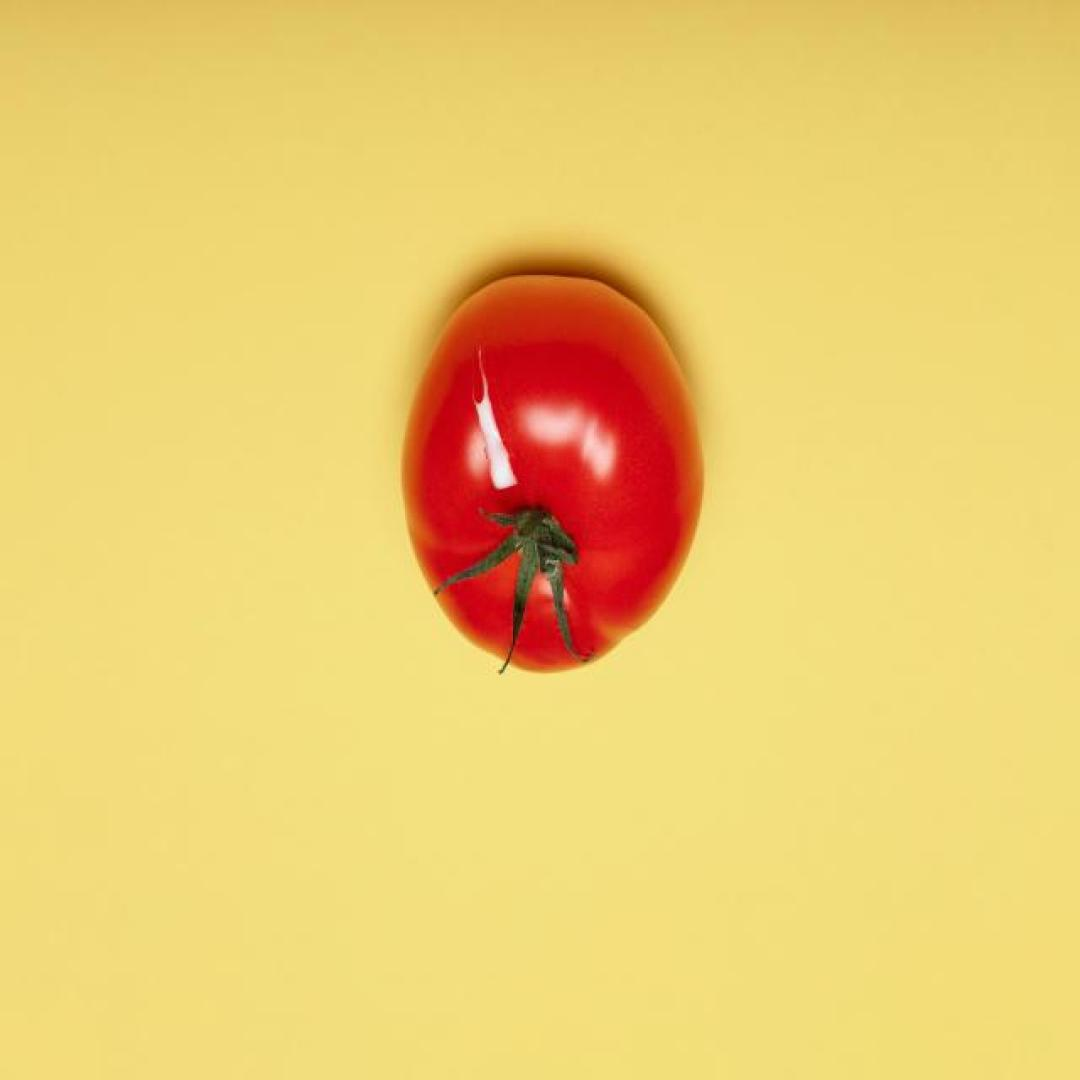matang: (402, 275, 707, 677)
